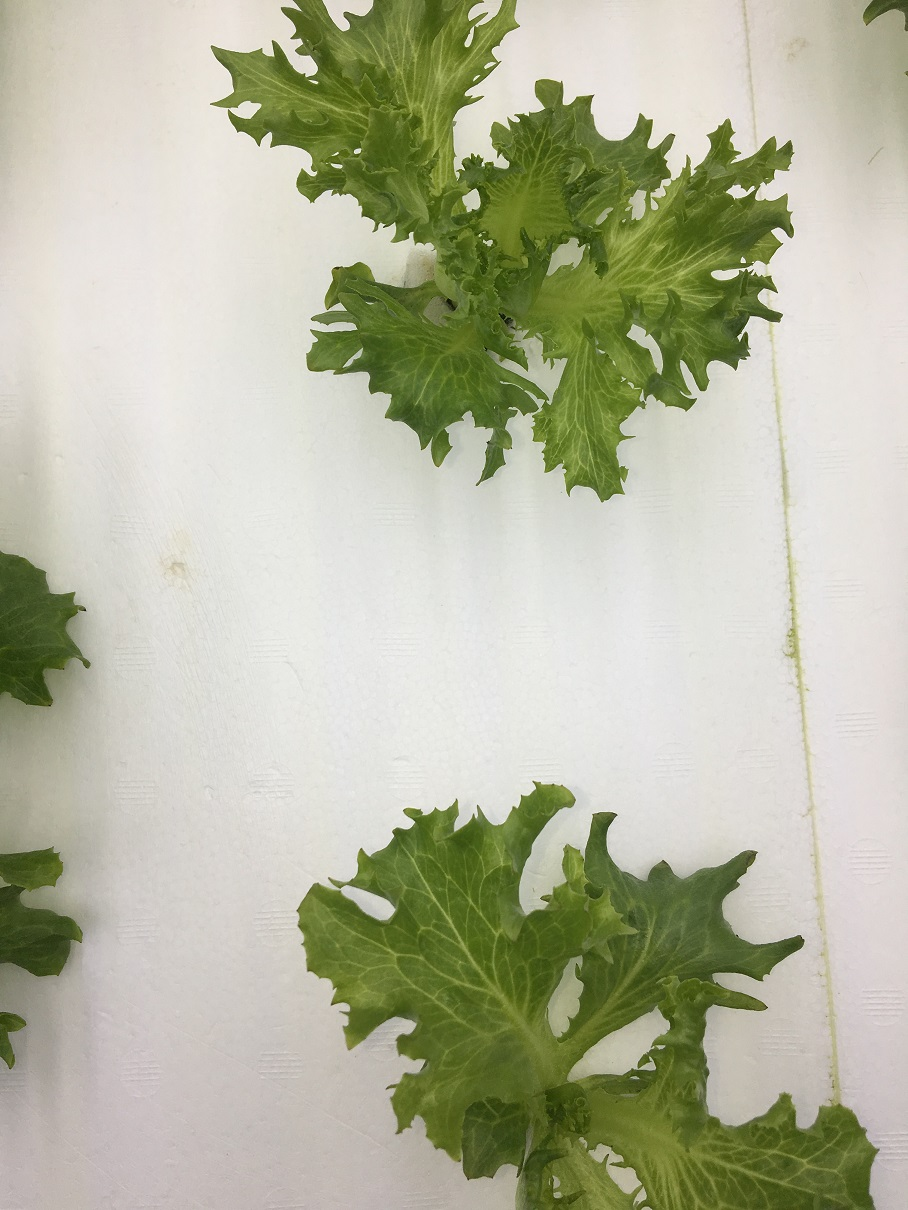tipburn: (734, 832, 773, 876), (593, 799, 628, 824), (647, 847, 684, 869), (321, 259, 347, 279), (35, 696, 58, 714), (797, 932, 815, 950), (669, 125, 685, 142), (79, 603, 94, 619)
